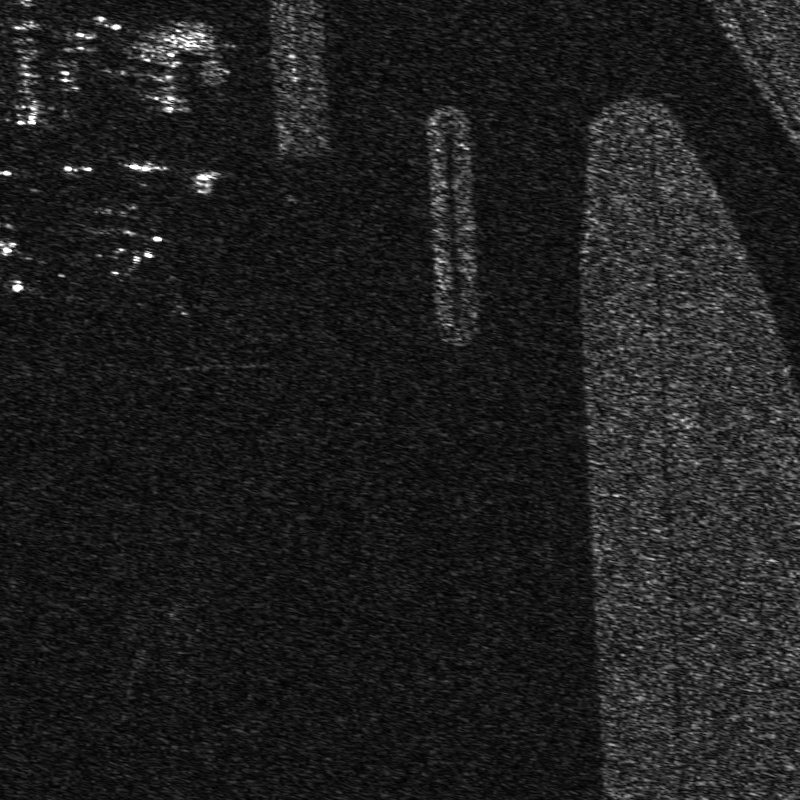Boeing737: (96, 209, 171, 273)
